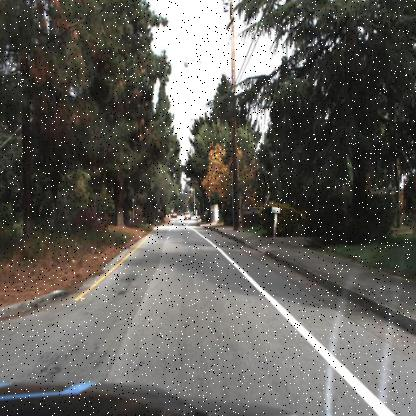car: (183, 209, 194, 222), (184, 208, 192, 221)
